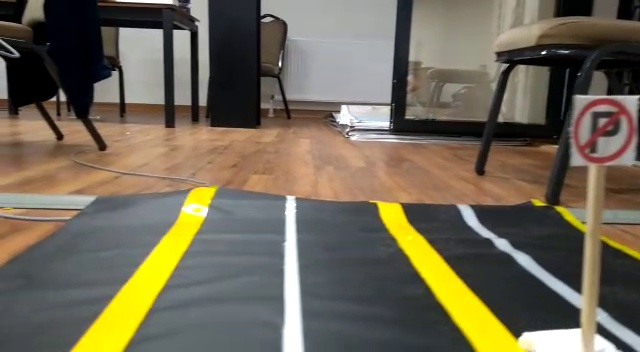park_yapilmaz: (568, 96, 634, 168)
